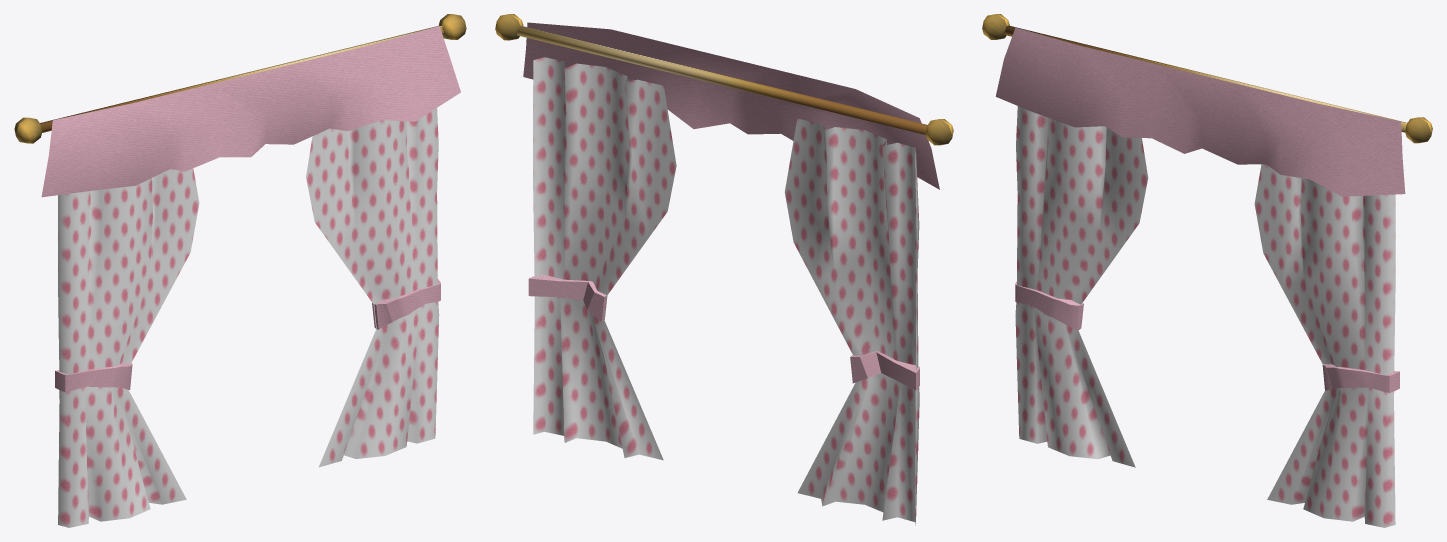
The model's file is Curtains_01_O.FBX.
The picture shows the model from 3 angles, left to right: view 1: azimuth 30°, elevation 25°; view 2: azimuth 150°, elevation 25°; view 3: azimuth 330°, elevation 25°; orthographic projection.
Parts seen in each view (by area): view 1: Curtains_01; view 2: Curtains_01; view 3: Curtains_01.
Part boxes in pixels (<box>): Curtains_01: <box>14,14,466,527</box>; Curtains_01: <box>495,14,953,525</box>; Curtains_01: <box>982,14,1432,527</box>.
Size of the model in its own units: 251 by 221 by 26.32.
